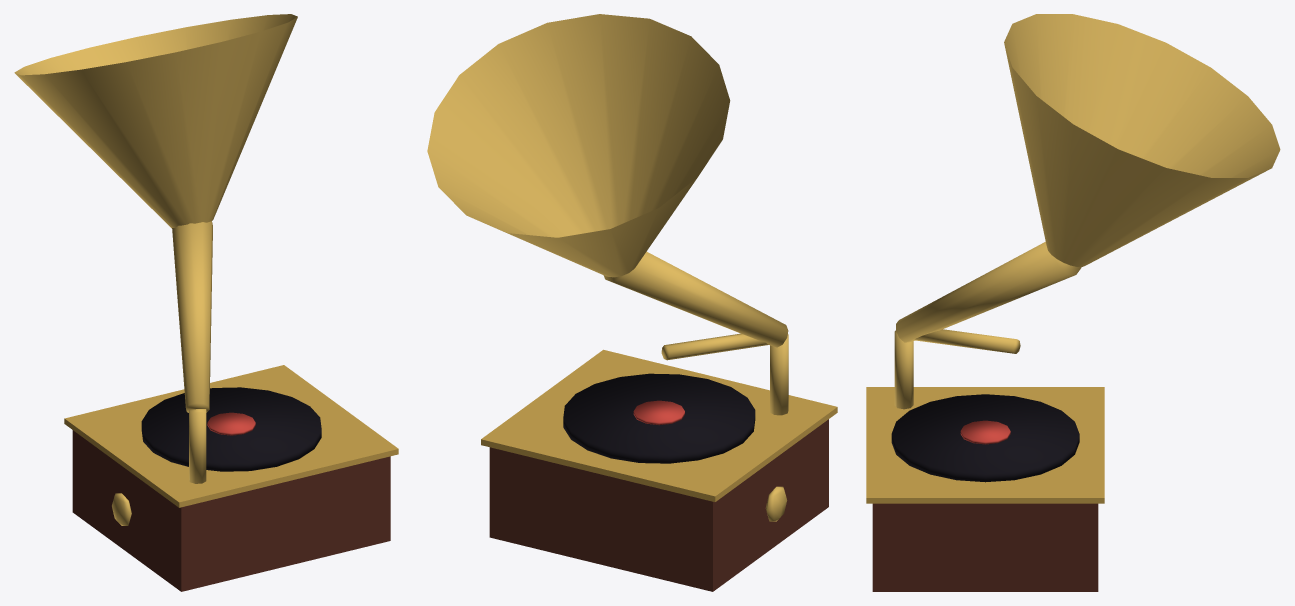
File: SM_PRP_Gramofone.fbx
The picture shows the model from 3 angles, left to right: view 1: azimuth 30°, elevation 25°; view 2: azimuth 150°, elevation 25°; view 3: azimuth 270°, elevation 25°; orthographic projection. The views are drawn at different scales.
Parts seen in each view (by area): view 1: SM_PRP_Gramofone; view 2: SM_PRP_Gramofone; view 3: SM_PRP_Gramofone.
Boxes of the visible parts, x1,y1,x2,y2 form: SM_PRP_Gramofone: [14, 14, 398, 591]; SM_PRP_Gramofone: [427, 14, 837, 591]; SM_PRP_Gramofone: [866, 14, 1280, 591].
Size of the model in its own units: 0.4727 by 0.8745 by 0.6606.
